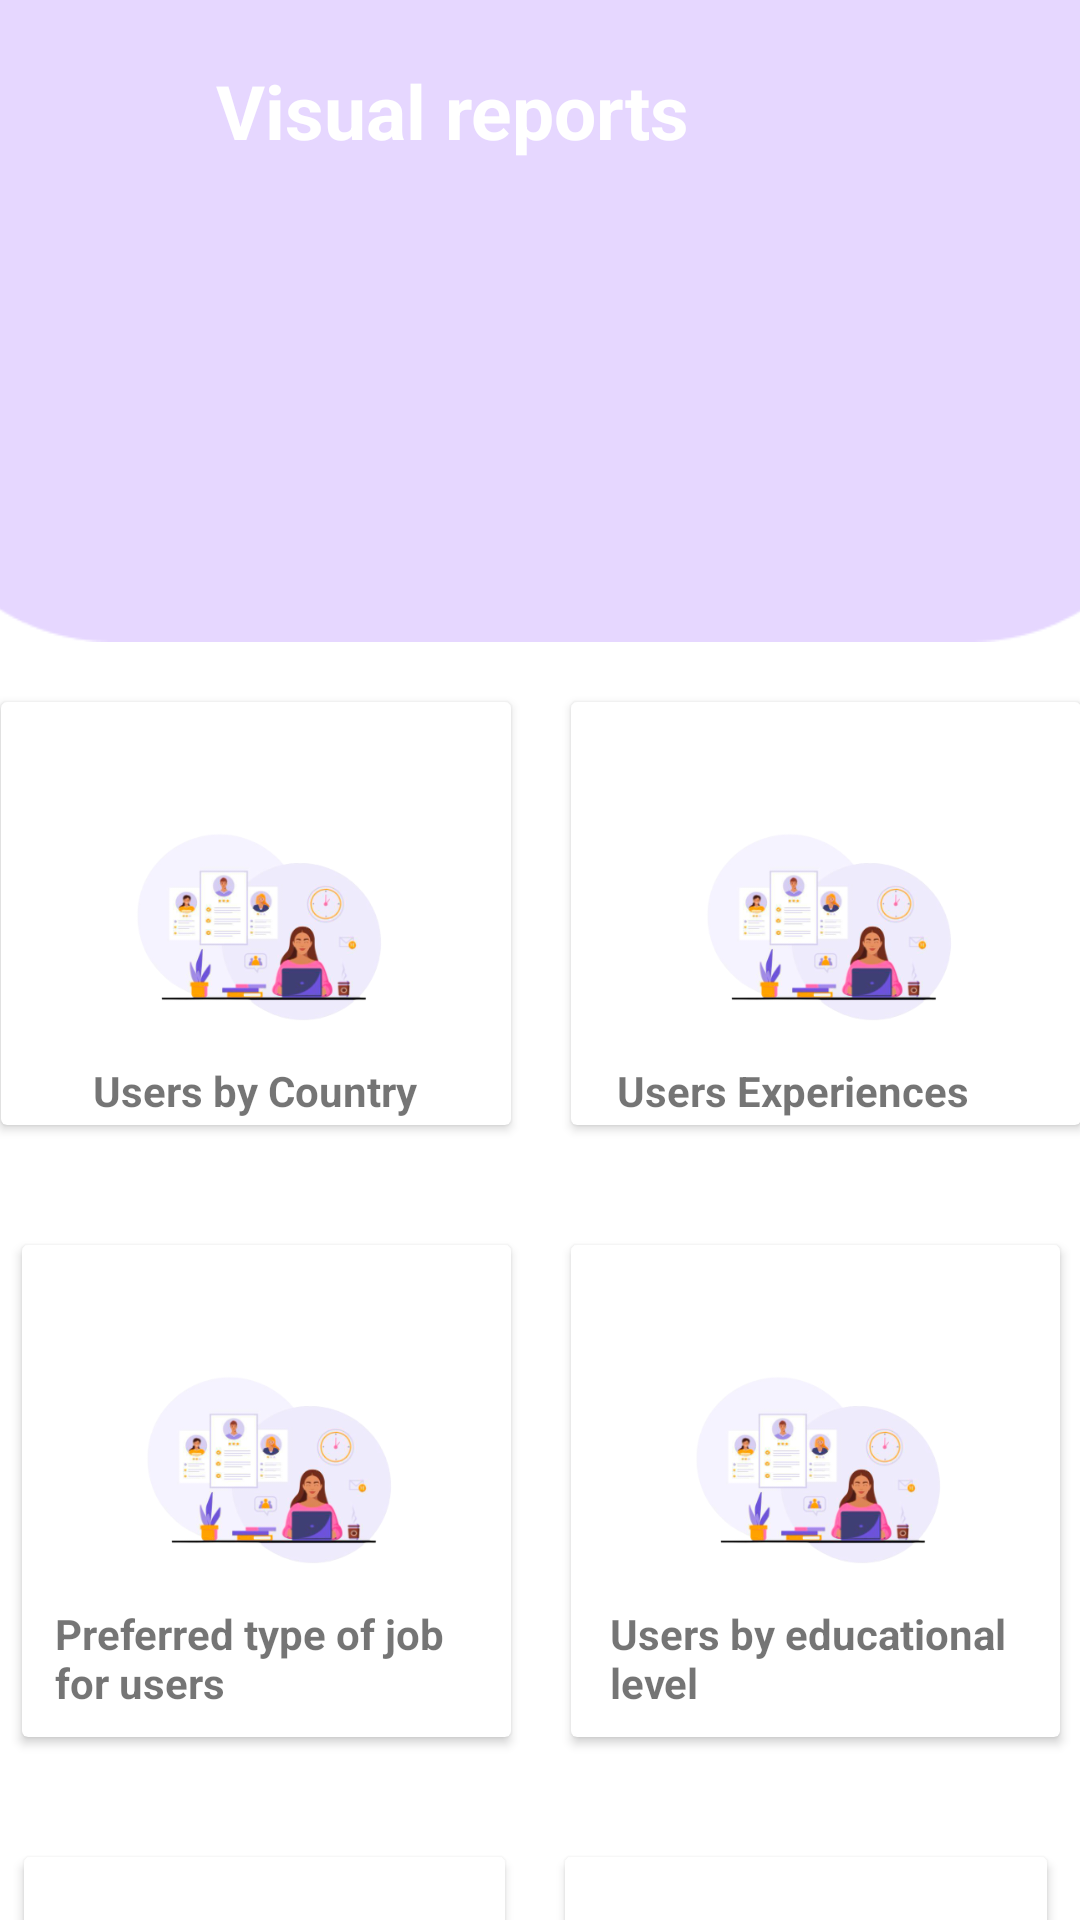

Screen size 1080 x 1920. Icon name, then its center in pixels as [x,y]:
searchjobicon: [263,936], [833,936], [273,1479], [822,1479]
